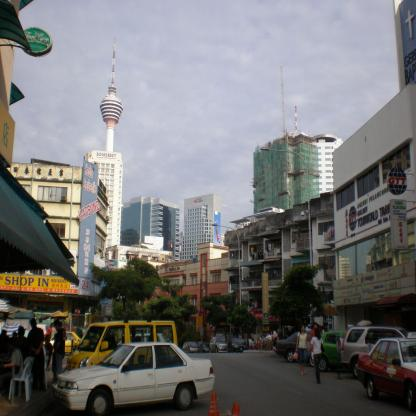Car: (47, 334, 416, 416)
